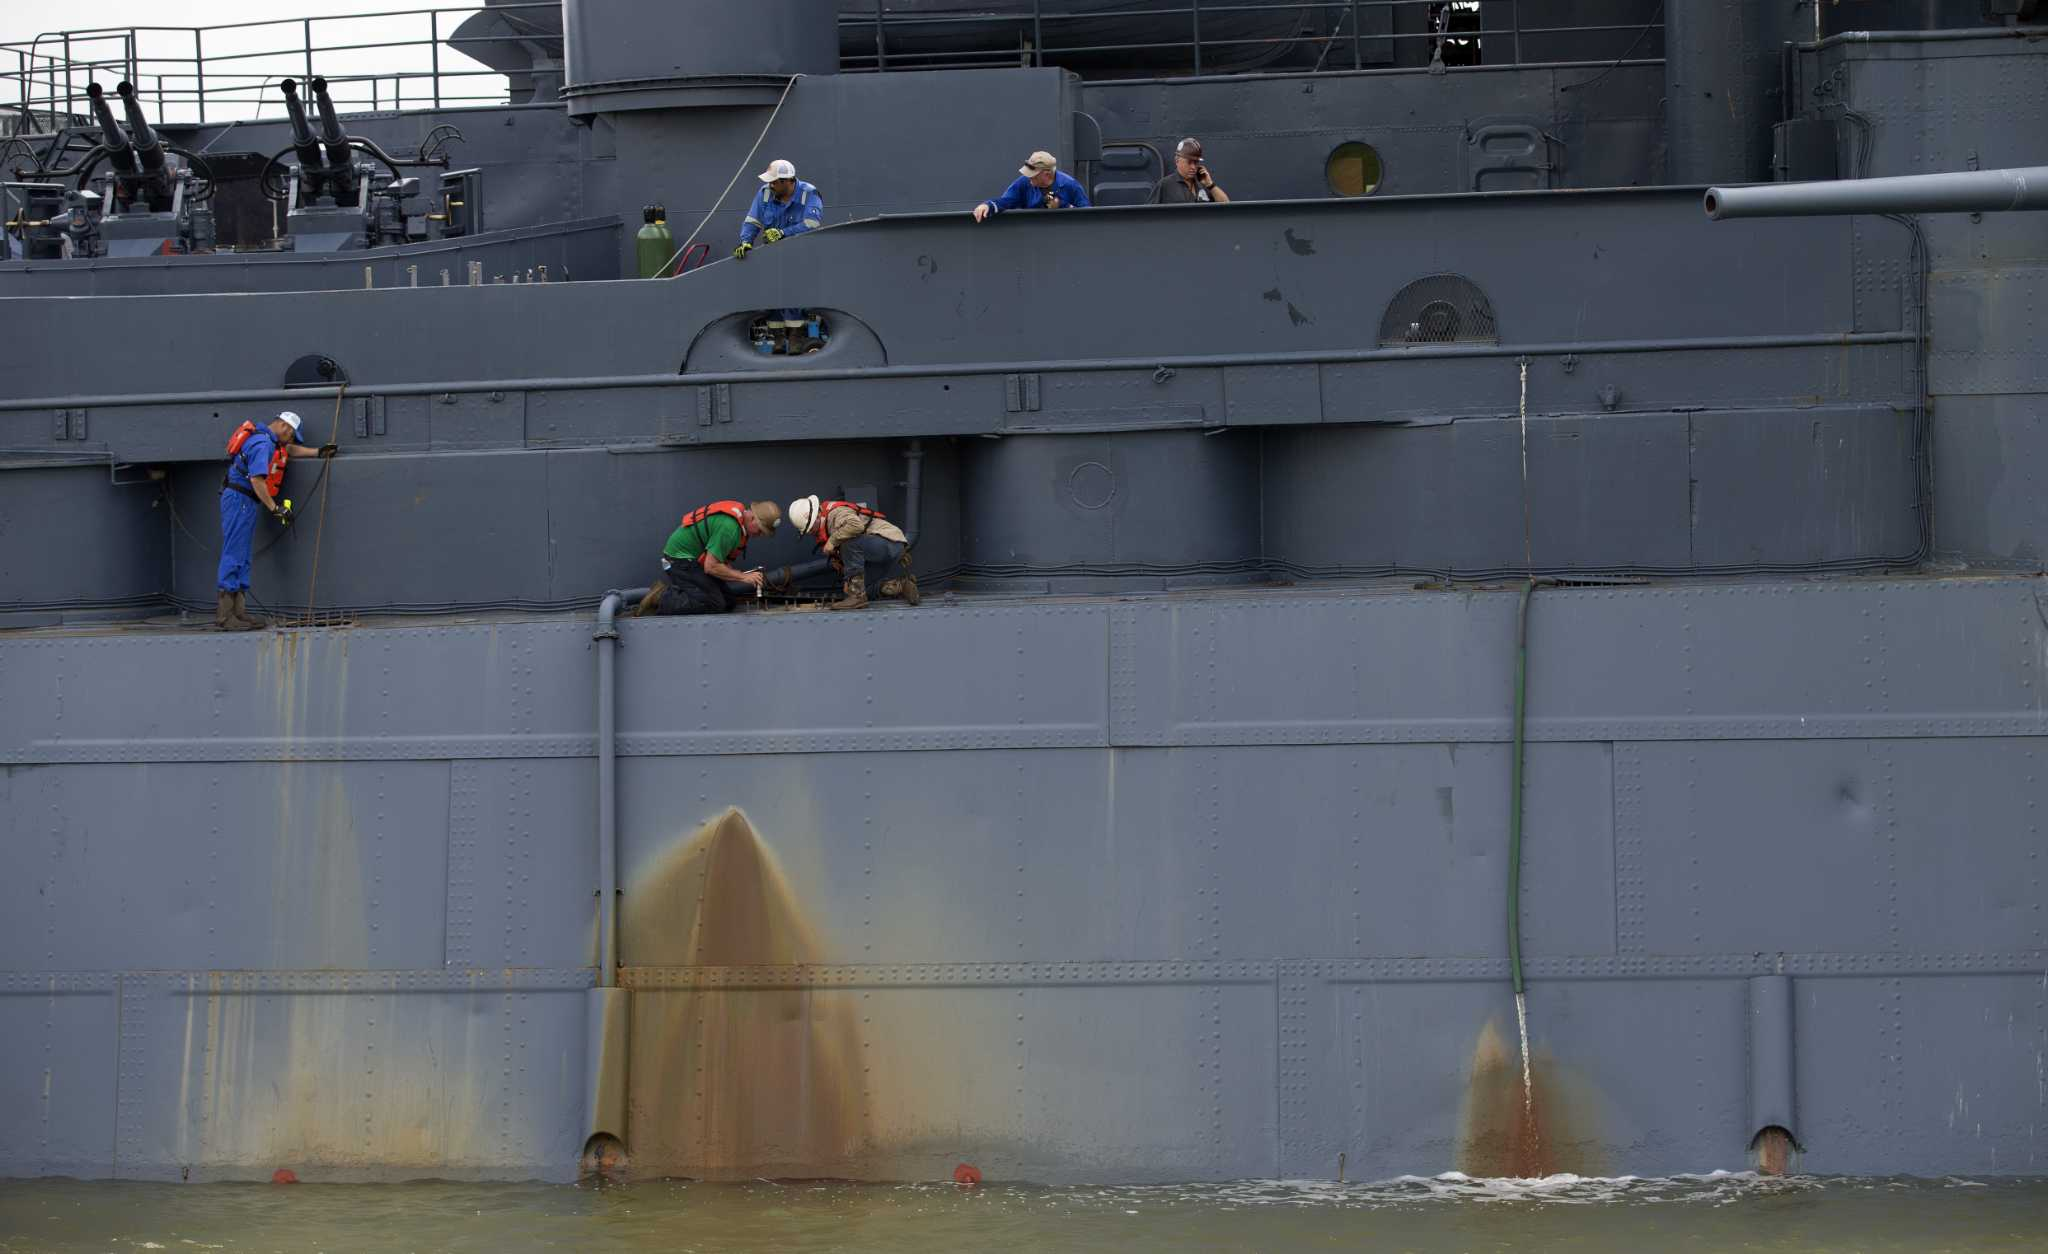rust: (598, 819, 873, 1174), (1461, 1035, 1554, 1175), (1758, 1138, 1789, 1176)
